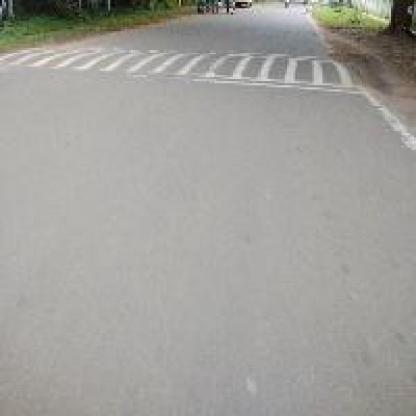Speed Bump: (2, 50, 356, 87)
